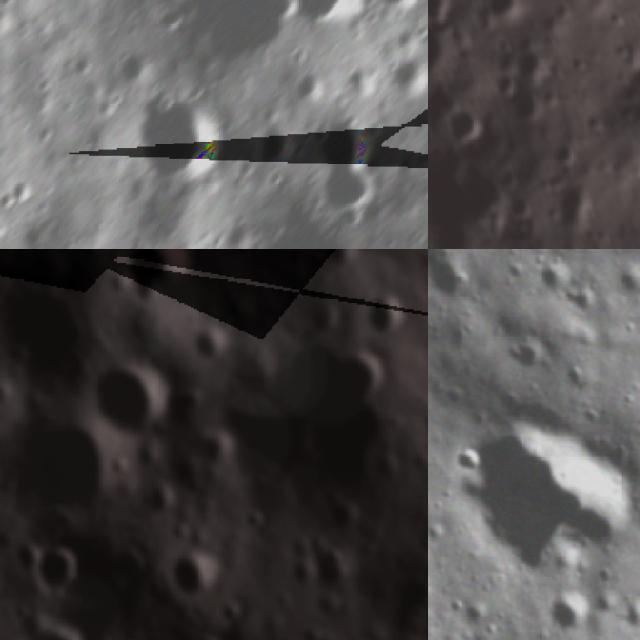crater: (431, 401, 640, 606), (230, 337, 398, 471), (0, 416, 124, 517), (0, 277, 109, 383), (133, 84, 230, 188), (82, 356, 178, 438), (313, 161, 384, 229), (319, 110, 390, 167), (124, 249, 203, 300), (545, 172, 605, 236), (441, 88, 495, 149), (355, 286, 411, 340), (336, 347, 390, 402), (504, 39, 561, 90), (173, 548, 229, 598), (32, 542, 83, 596), (285, 0, 362, 35), (465, 0, 538, 35), (109, 539, 154, 590), (548, 122, 596, 168), (162, 386, 209, 428), (329, 495, 369, 543), (172, 452, 208, 503), (198, 432, 240, 474), (393, 569, 428, 618), (16, 618, 93, 640), (369, 446, 409, 488), (0, 171, 39, 214), (304, 304, 341, 342), (192, 335, 234, 367), (13, 538, 44, 579), (322, 249, 363, 278), (144, 486, 176, 519), (376, 0, 428, 13), (216, 602, 242, 628), (243, 508, 269, 534), (145, 577, 167, 605), (176, 630, 228, 640)
